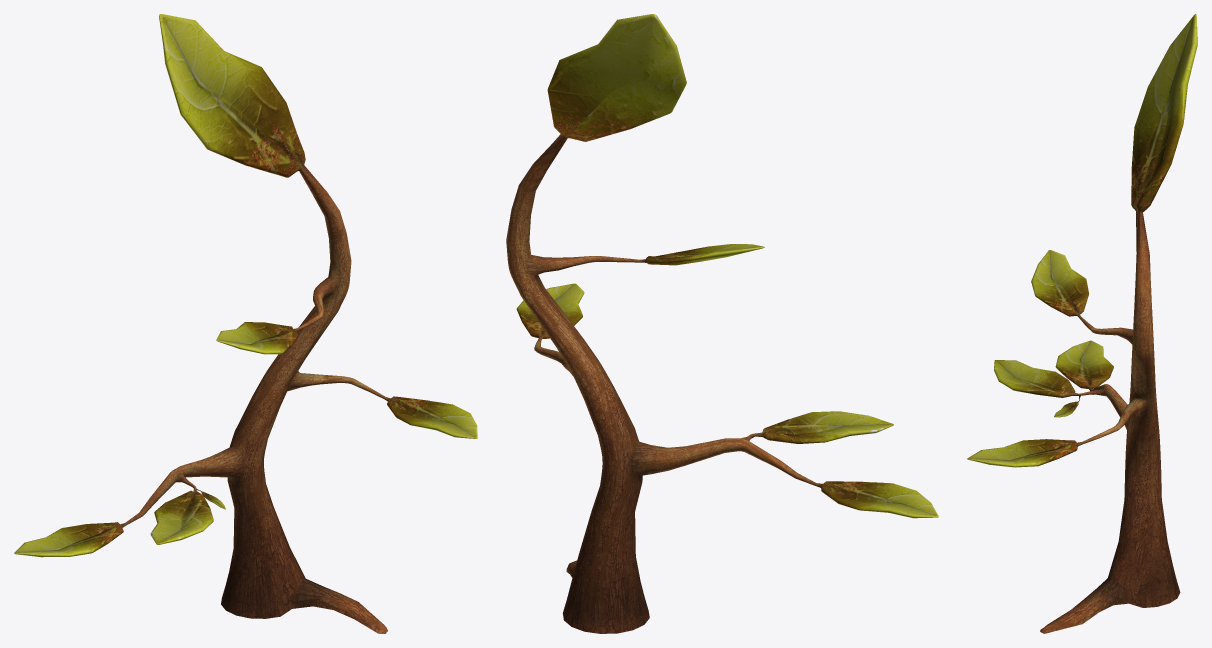
File: Arbre_01.FBX
3 renders of one model, left to right at view 1: azimuth 30°, elevation 25°; view 2: azimuth 150°, elevation 25°; view 3: azimuth 270°, elevation 25°, orthographic. The views are drawn at different scales.
Visible parts, largest first — view 1: Arbre; view 2: Arbre; view 3: Arbre.
Boxes of the visible parts, x1,y1,x2,y2 form: Arbre: (14,14,477,633); Arbre: (506,14,938,633); Arbre: (967,14,1197,633).
Size of the model in its own units: 10.59 by 14.46 by 5.46.
